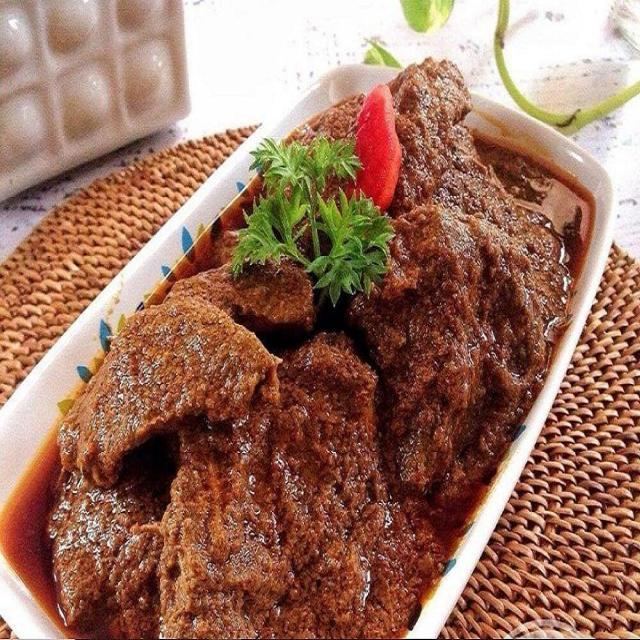Rendang: (45, 35, 556, 640)
